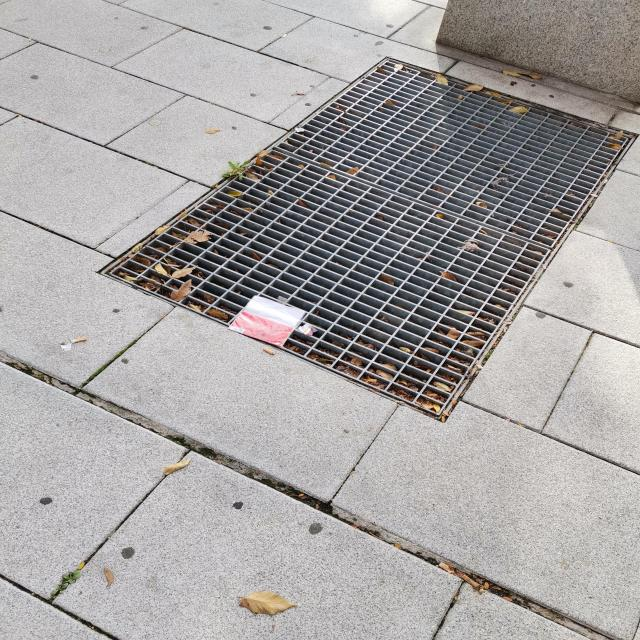litter: (223, 297, 305, 344)
